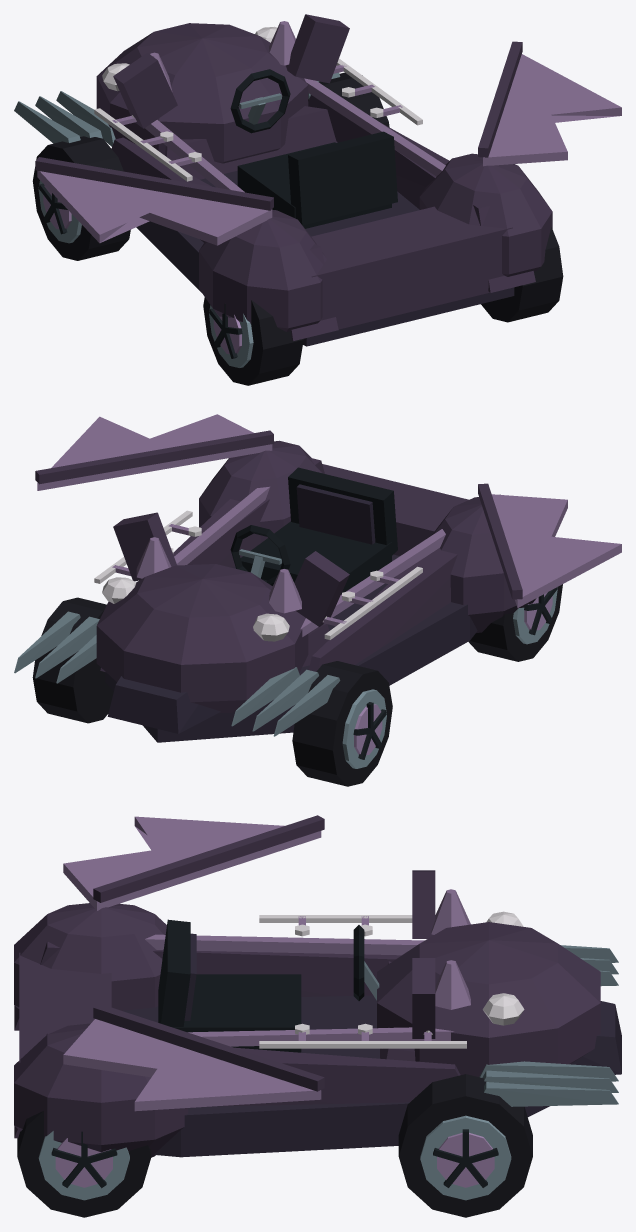
The model's file is kart.glb.
The picture shows the model from 3 angles, top to bottom: view 1: azimuth 30°, elevation 25°; view 2: azimuth 150°, elevation 25°; view 3: azimuth 270°, elevation 25°; orthographic projection. The views are drawn at different scales.
Parts seen in each view (by area): view 1: identity-beast-beast-sculpted-prow-and-haunches, identity-beast-motif-dragon-wings, identity-beast-driver-cockpit, wheel-rear-left, wheel-front-left, identity-beast-motif-claws, identity-beast-motif-circuit, wheel-rear-right, wheel-front-right; view 2: identity-beast-beast-sculpted-prow-and-haunches, identity-beast-motif-dragon-wings, identity-beast-driver-cockpit, wheel-front-left, identity-beast-motif-claws, wheel-front-right, wheel-rear-left, identity-beast-motif-circuit; view 3: identity-beast-beast-sculpted-prow-and-haunches, identity-beast-motif-dragon-wings, wheel-front-right, identity-beast-driver-cockpit, wheel-rear-right, identity-beast-motif-claws, identity-beast-motif-circuit.
Boxes of the visible parts, x1=… form: identity-beast-beast-sculpted-prow-and-haunches: x1=96, y1=14, x2=552, y2=346; identity-beast-motif-dragon-wings: x1=35, y1=41, x2=621, y2=245; identity-beast-driver-cockpit: x1=230, y1=69, x2=397, y2=228; wheel-rear-left: x1=203, y1=297, x2=303, y2=385; wheel-front-left: x1=32, y1=136, x2=130, y2=260; identity-beast-motif-claws: x1=14, y1=72, x2=340, y2=146; identity-beast-motif-circuit: x1=94, y1=58, x2=422, y2=181; wheel-rear-right: x1=481, y1=227, x2=563, y2=322; wheel-front-right: x1=308, y1=72, x2=389, y2=127; identity-beast-beast-sculpted-prow-and-haunches: x1=96, y1=440, x2=536, y2=742; identity-beast-motif-dragon-wings: x1=35, y1=414, x2=621, y2=608; identity-beast-driver-cockpit: x1=230, y1=467, x2=397, y2=594; wheel-front-left: x1=292, y1=661, x2=392, y2=786; identity-beast-motif-claws: x1=14, y1=611, x2=340, y2=736; wheel-front-right: x1=32, y1=597, x2=113, y2=723; wheel-rear-left: x1=468, y1=584, x2=562, y2=661; identity-beast-motif-circuit: x1=94, y1=510, x2=422, y2=639; identity-beast-beast-sculpted-prow-and-haunches: x1=14, y1=870, x2=621, y2=1157; identity-beast-motif-dragon-wings: x1=63, y1=815, x2=324, y2=1111; wheel-front-right: x1=398, y1=1074, x2=532, y2=1217; identity-beast-driver-cockpit: x1=158, y1=919, x2=379, y2=1052; wheel-rear-right: x1=17, y1=1111, x2=151, y2=1217; identity-beast-motif-claws: x1=479, y1=945, x2=618, y2=1106; identity-beast-motif-circuit: x1=259, y1=915, x2=466, y2=1048.
Size of the model in its own units: 3.22 by 1.16 by 2.9.
